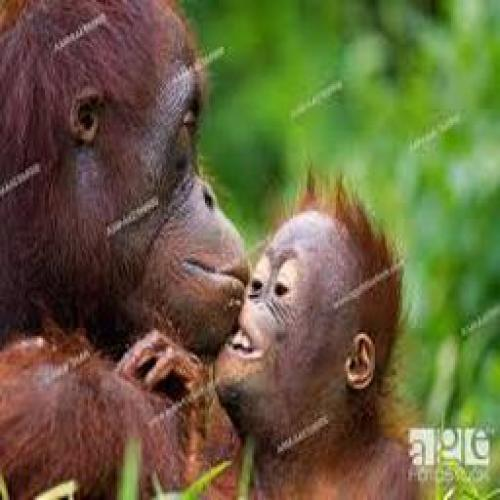orangutan-endangered: (7, 8, 246, 484), (123, 182, 416, 497)
